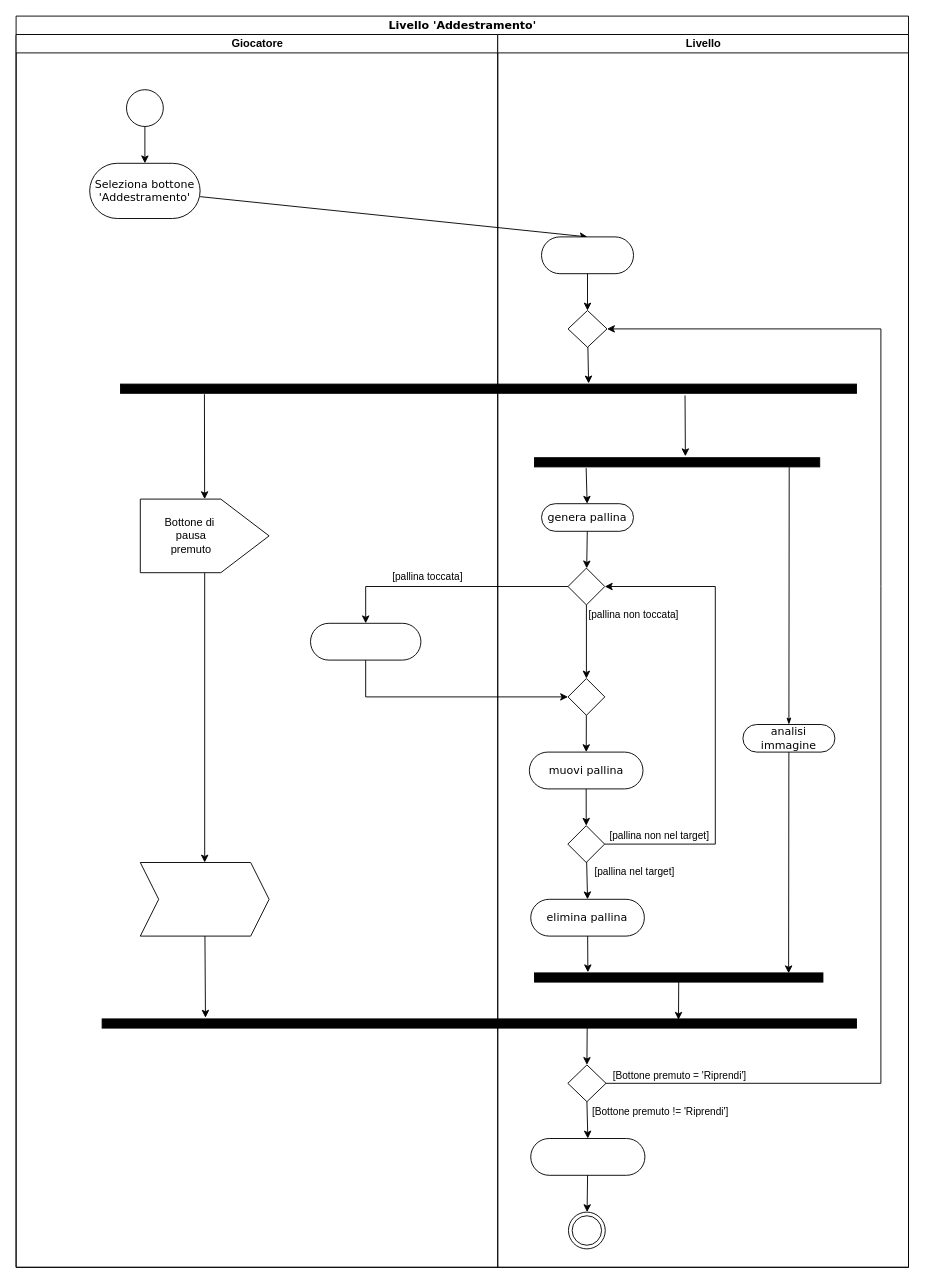
This 925x1283 diagram has some shape labels left out. Here are the shapes that lost their labels. From the top down, the centre of each, then its label:
At (587,255): "Inizia gioco".
At (365,641): "cambio direzione".
At (204,899): "metti in pausa".
At (587,1156): "Esci".
